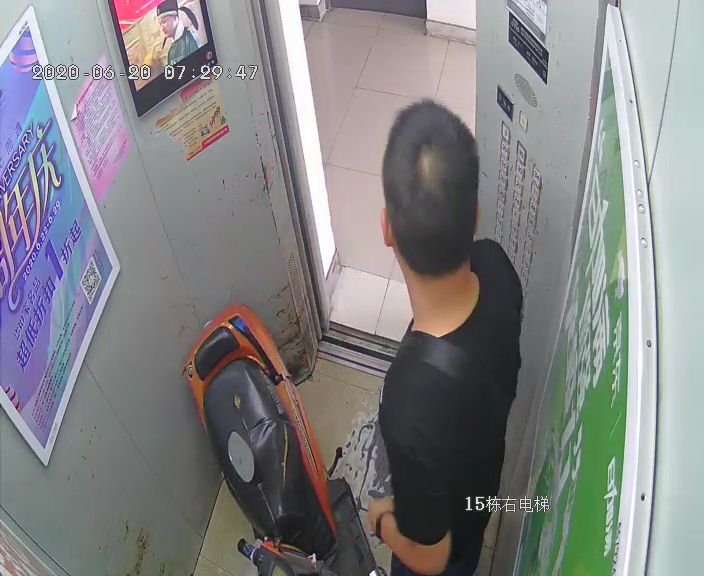Electric-bicycle: (188, 309, 370, 575)
